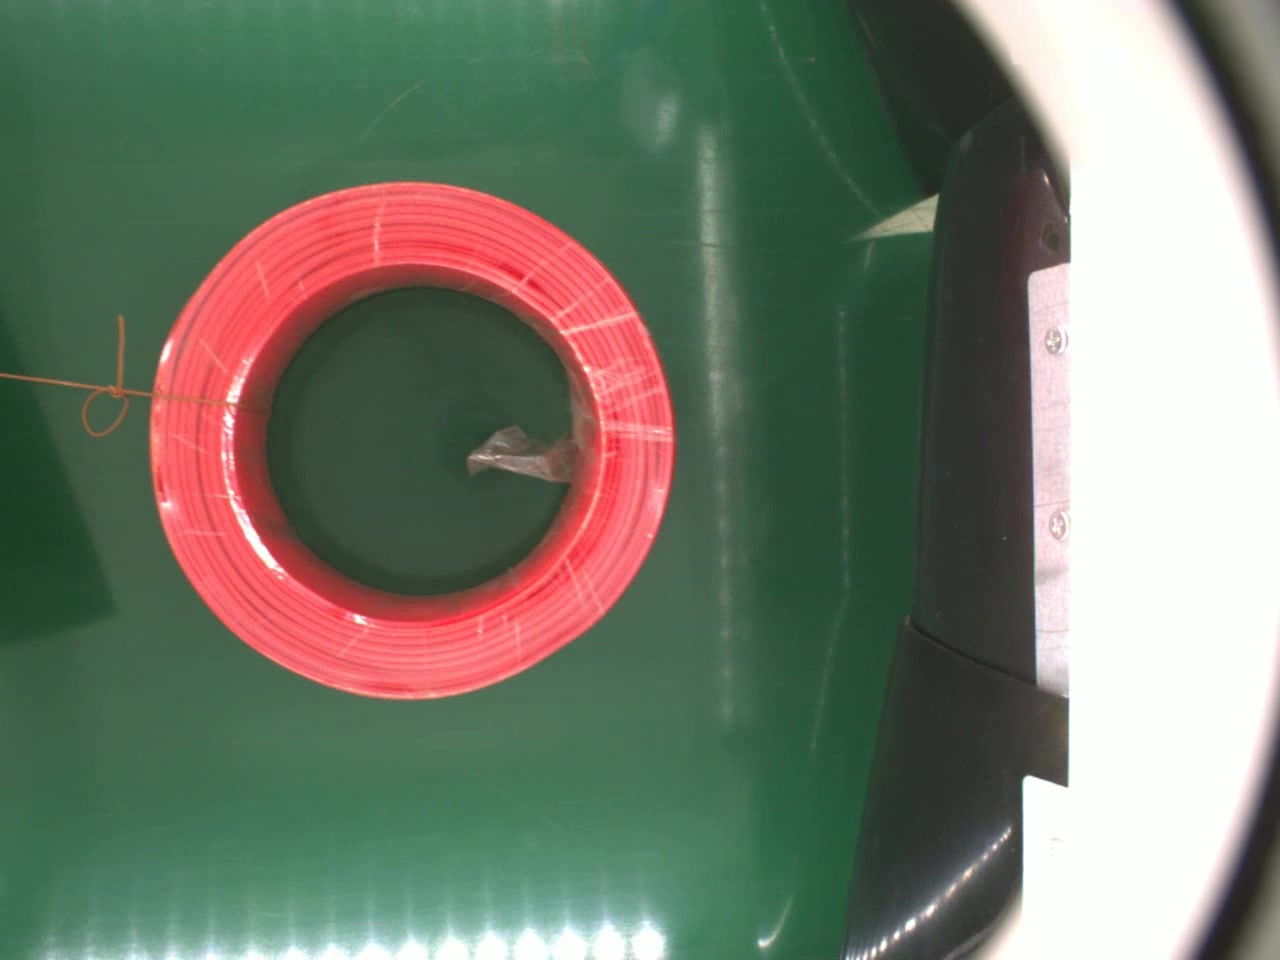red: (144, 179, 678, 703)
